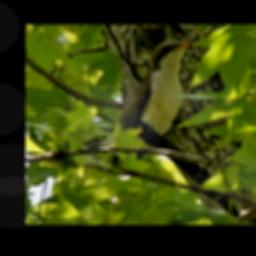Cuckoo: (81, 36, 200, 166)
